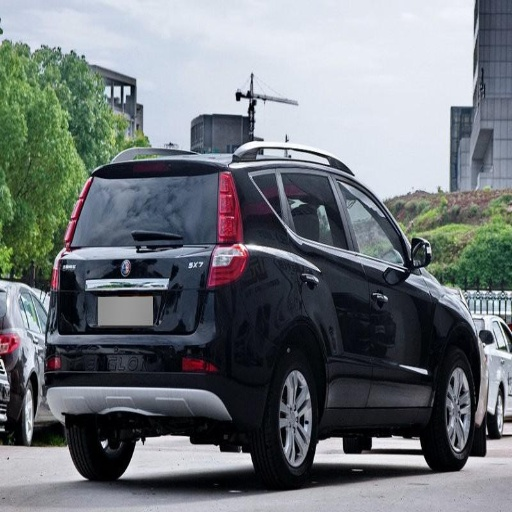back_bumper: (48, 284, 271, 424)
back_right_door: (281, 169, 371, 409)
tailgate: (27, 244, 208, 340)
trunk: (47, 313, 122, 358)
